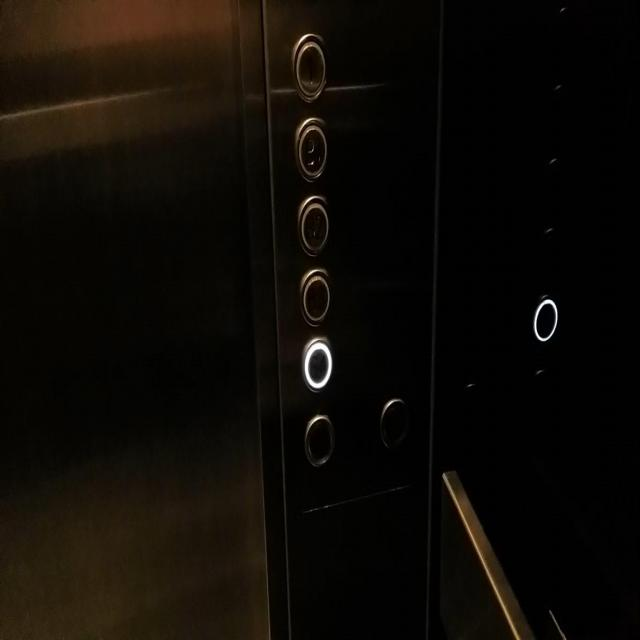1: (292, 31, 326, 102)
B1: (294, 112, 330, 182)
B4: (300, 336, 332, 392)
blur: (298, 193, 331, 256), (299, 268, 330, 326)
empty: (302, 413, 335, 468), (379, 395, 409, 453), (531, 294, 558, 343)
